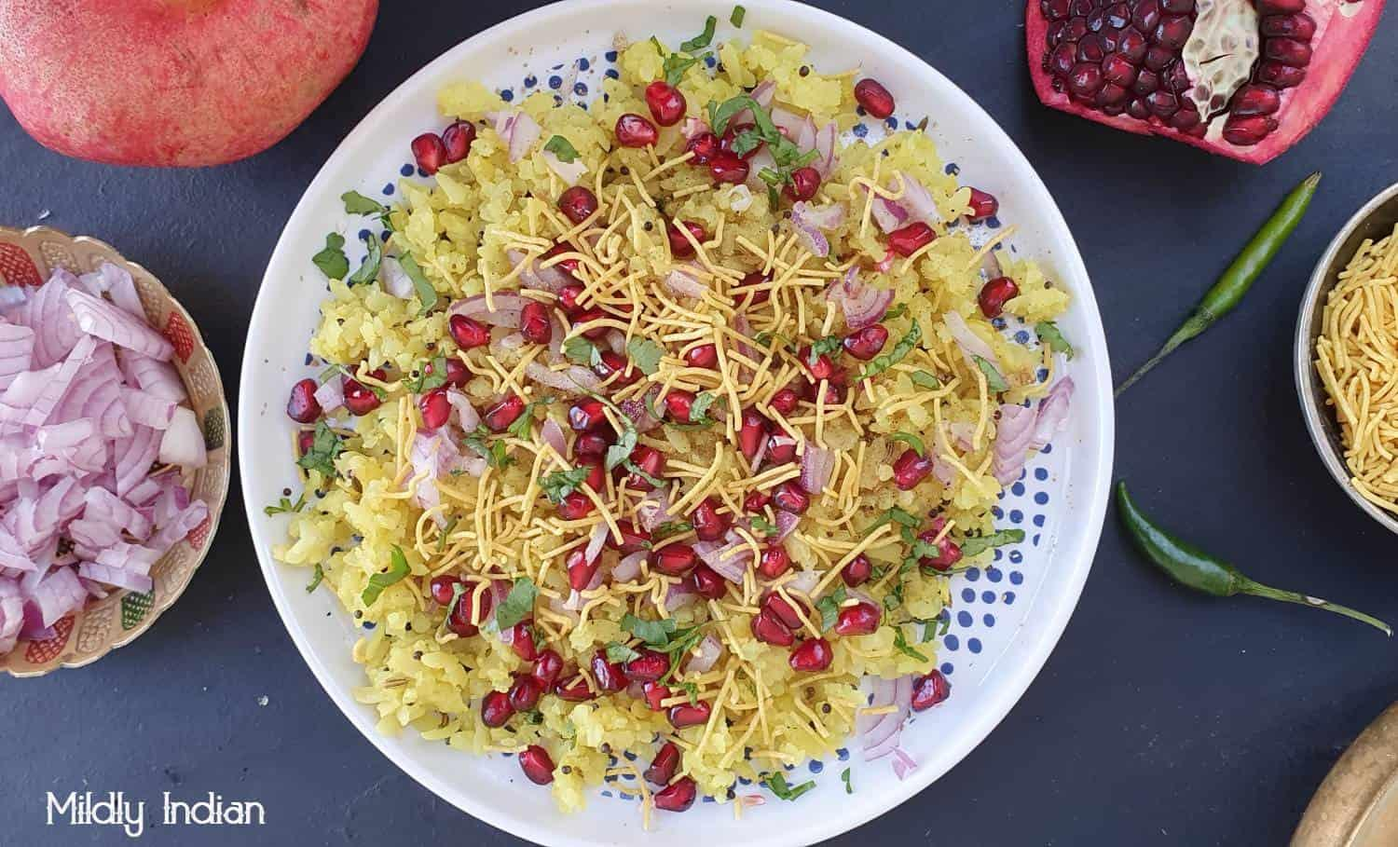poha: (285, 19, 1060, 817)
